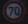Speed Limit -70-: (0, 0, 27, 23)
